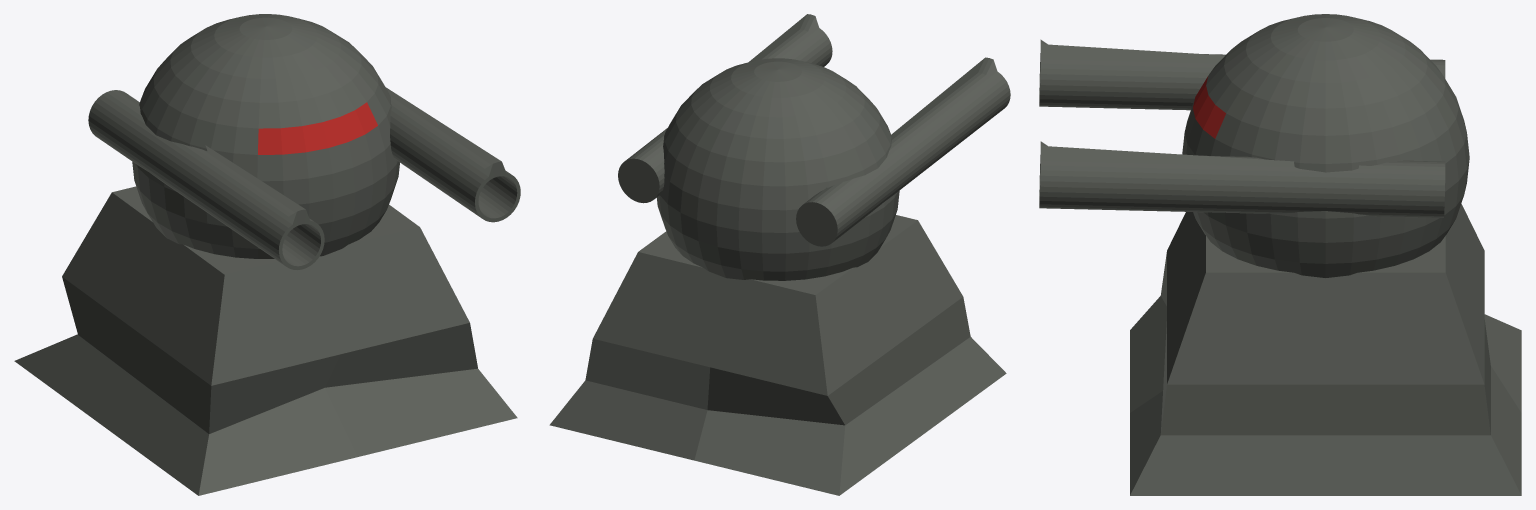
Rendered from Mini_Turret_Round (2).fbx.
3 views of the same model, side by side, from view 1: azimuth 30°, elevation 25°; view 2: azimuth 150°, elevation 25°; view 3: azimuth 270°, elevation 25° (orthographic). The views are drawn at different scales.
Parts seen in each view (by area): view 1: Base, Sphere, GunR, GunL; view 2: Base, Sphere, GunR, GunL; view 3: Base, Sphere, GunL, GunR.
Part boxes in pixels (left/top/right/bottom): Base: left=14, top=186, right=517, bottom=495; Sphere: left=132, top=14, right=399, bottom=258; GunR: left=88, top=90, right=324, bottom=269; GunL: left=386, top=87, right=520, bottom=222; Base: left=549, top=215, right=1006, bottom=495; Sphere: left=656, top=58, right=899, bottom=280; GunR: left=796, top=57, right=1010, bottom=246; GunL: left=618, top=14, right=832, bottom=203; Base: left=1130, top=204, right=1521, bottom=495; Sphere: left=1182, top=14, right=1469, bottom=277; GunL: left=1039, top=141, right=1445, bottom=217; GunR: left=1039, top=39, right=1445, bottom=110.
Bounding box in the file's own units: 380 × 413 × 468.
